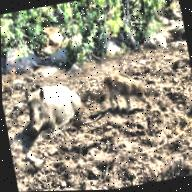boar: (14, 59, 97, 158), (98, 46, 161, 140)
